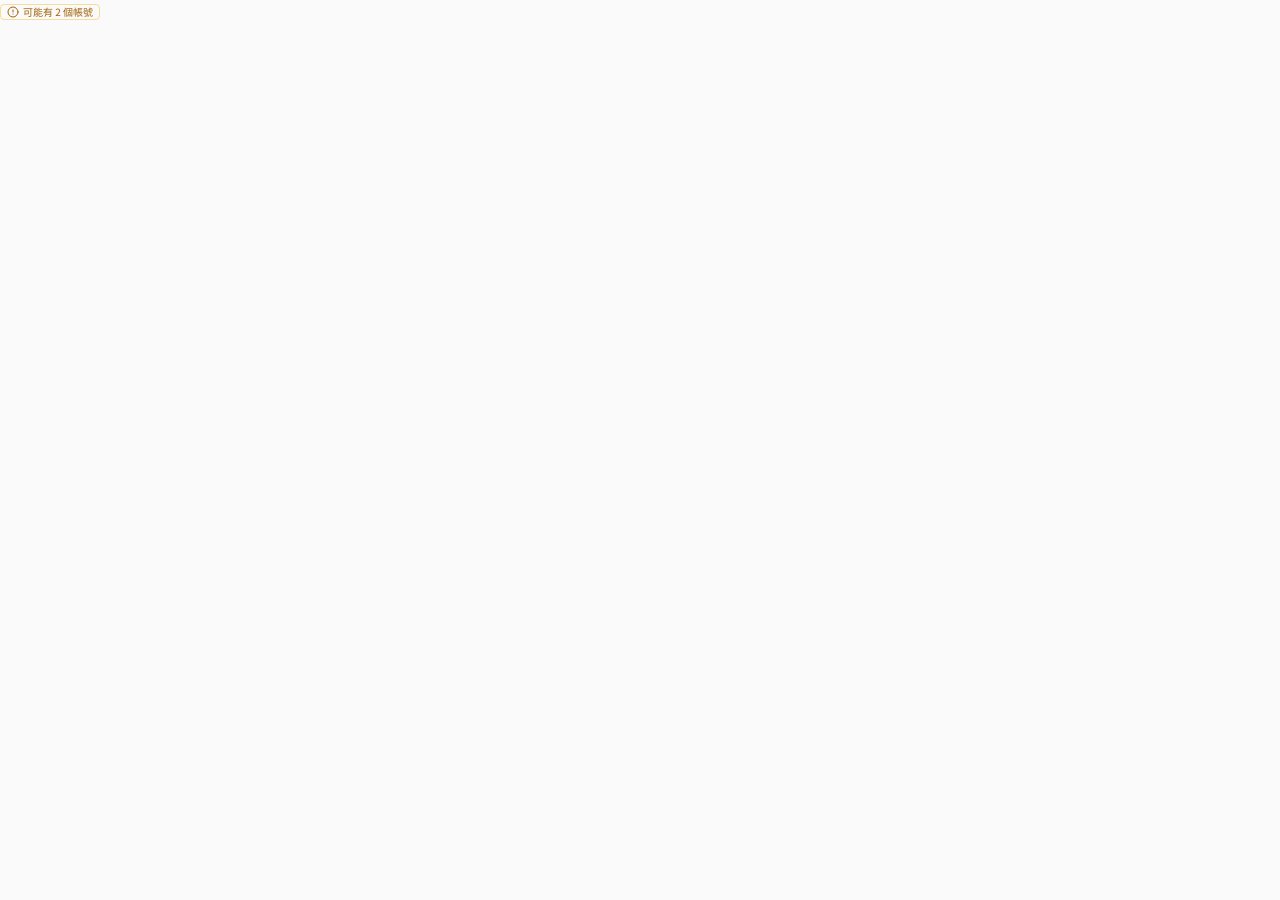
DuplicateIdentityHint › 顯示提示，點開後列出另一個身分與是否有訂閱
Click the button with test id "duplicate-identity-hint" at (50, 12), box [0, 4, 100, 20]
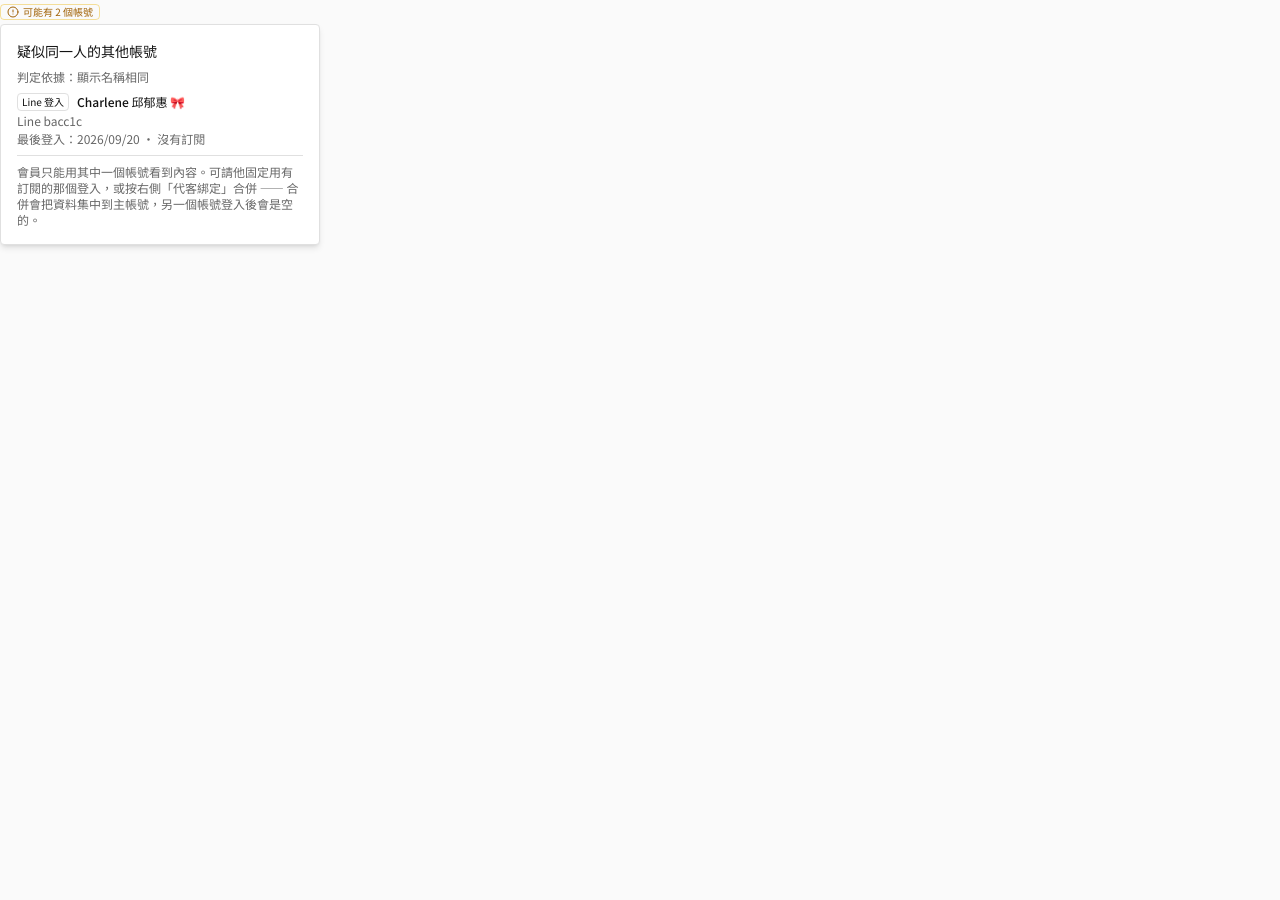
Expected: the list with test id "duplicate-identity-others" shows "Line 登入", [22, 94, 64, 109]
Expected: the list with test id "duplicate-identity-others" shows "沒有訂閱", [157, 130, 205, 147]
Expected: the text "判定依據：顯示名稱相同" is shown, [17, 68, 149, 85]
